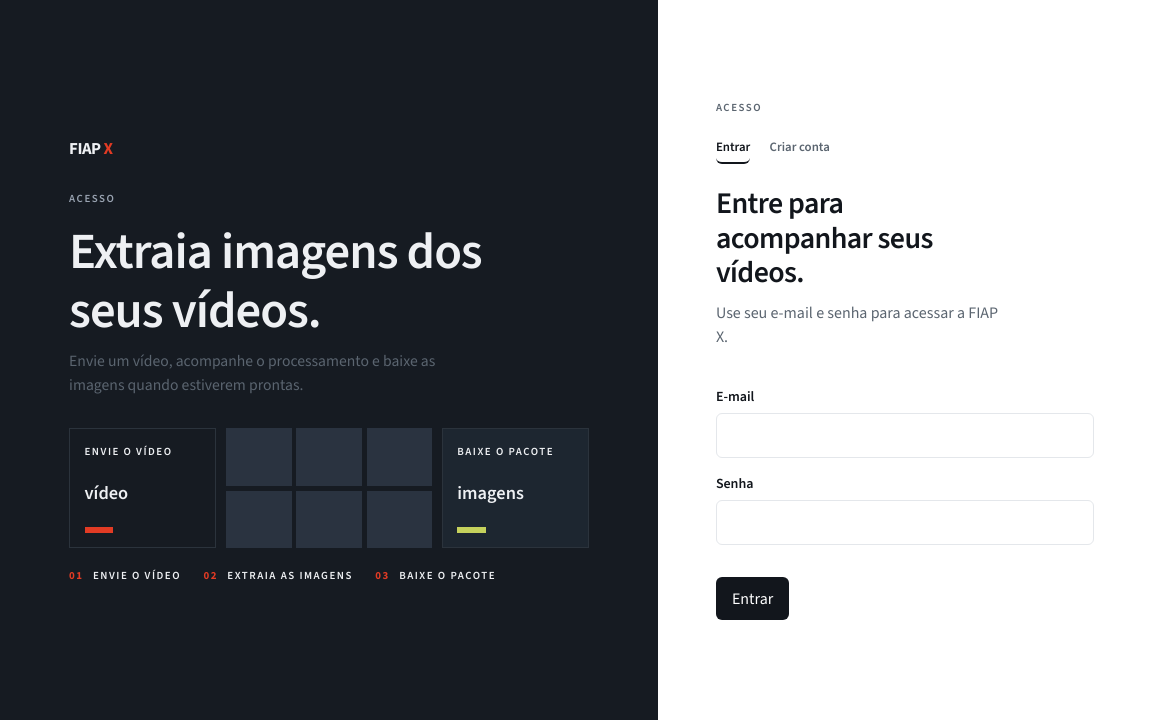
access › returns to login after a valid registration
Click the tab "Criar conta" at (800, 147), box top-left (770, 131), bottom-right (830, 164)
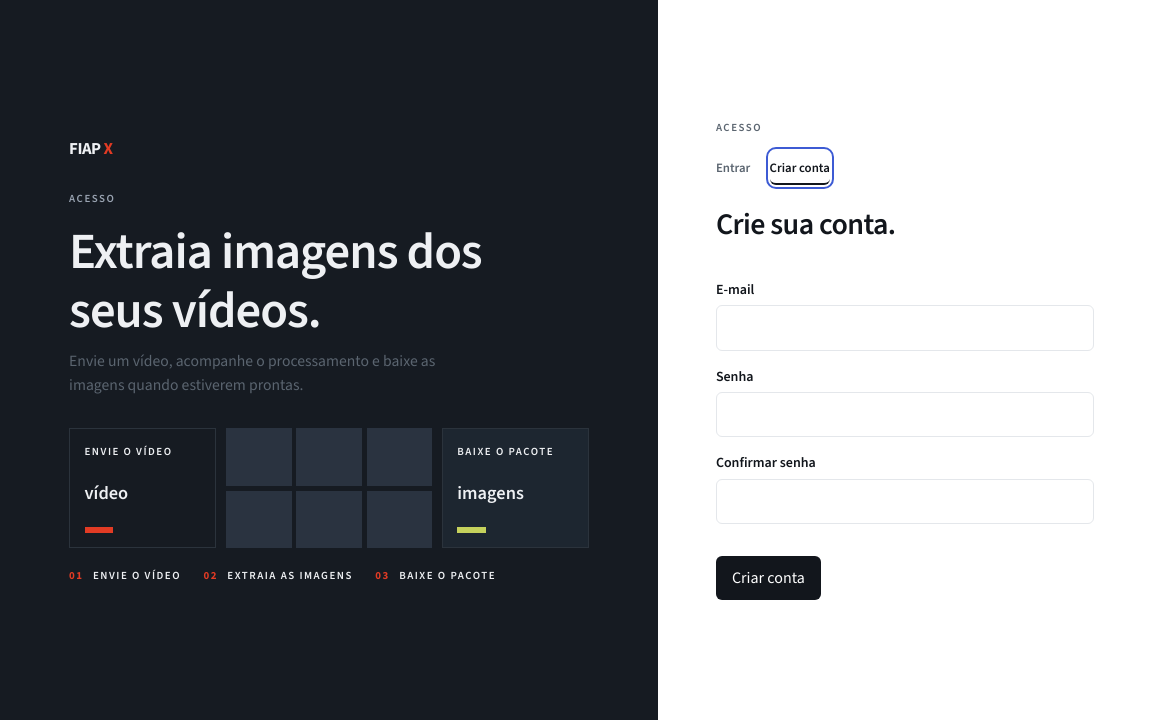
Type "nova@fiapx.local" into the field labelled "E-mail" at (905, 328), box top-left (716, 305), bottom-right (1094, 351)
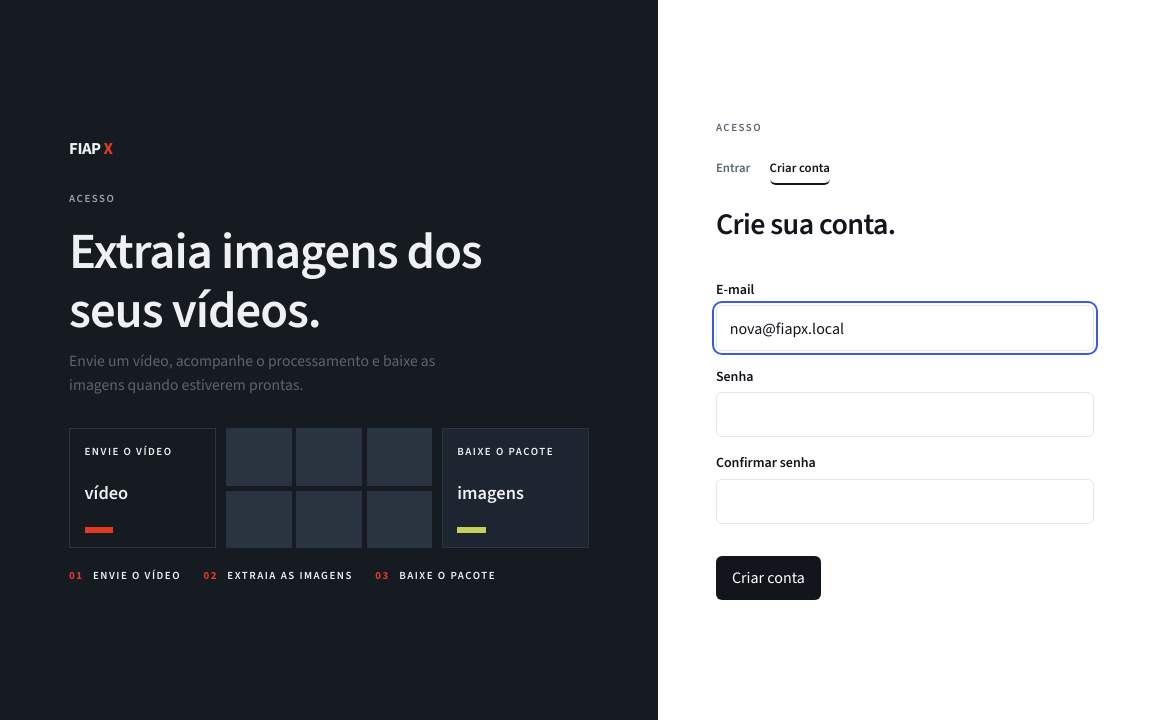
Type "SenhaSegura123" into the password field labelled "Senha" at (905, 415), box top-left (716, 392), bottom-right (1094, 438)
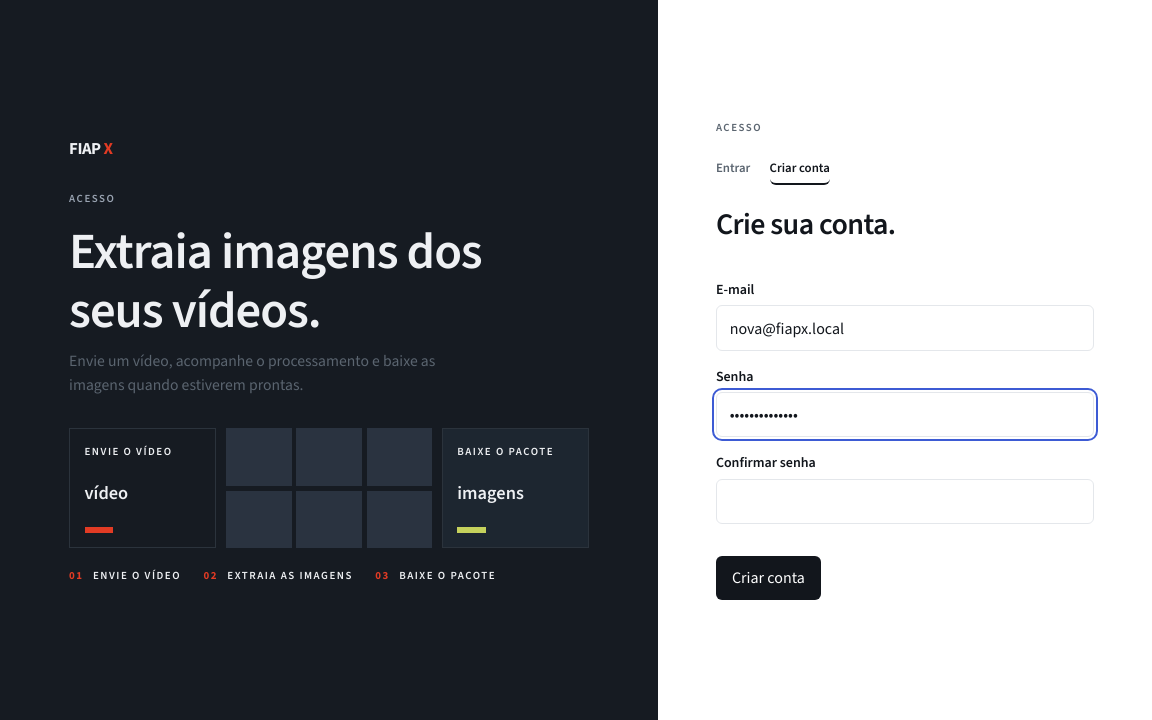
Type "SenhaSegura123" into the password field labelled "Confirmar senha" at (905, 502), box top-left (716, 479), bottom-right (1094, 524)
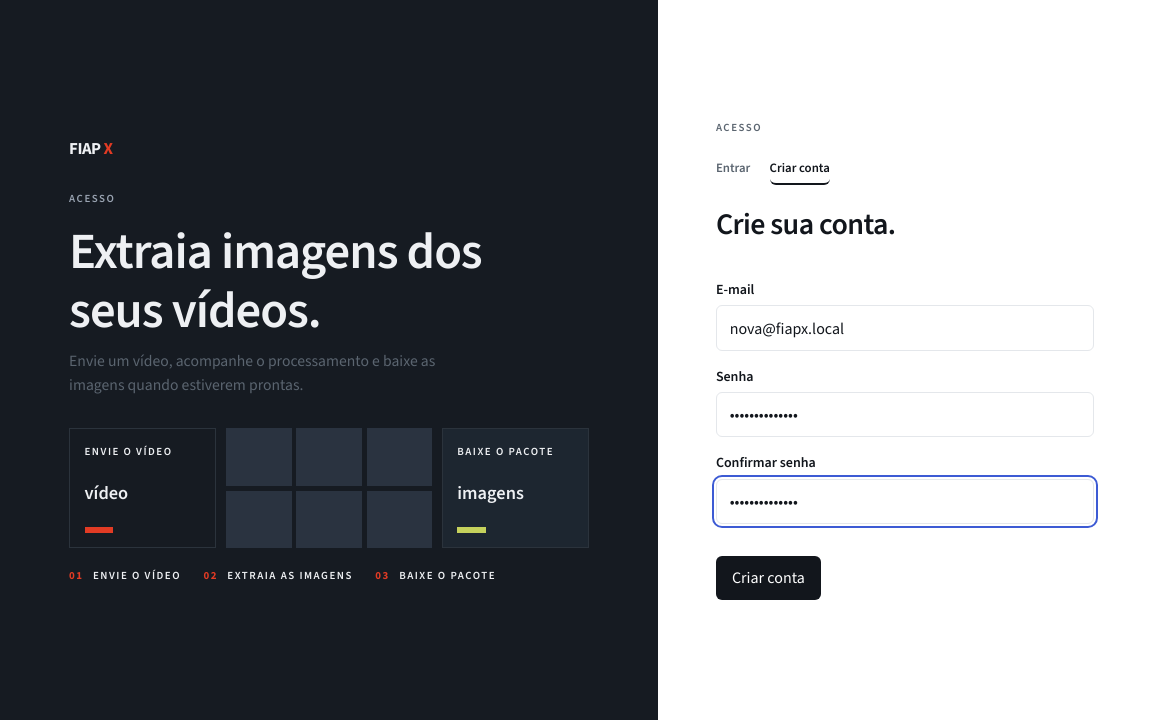
Click the button "Criar conta" at (768, 578), box top-left (716, 556), bottom-right (821, 600)
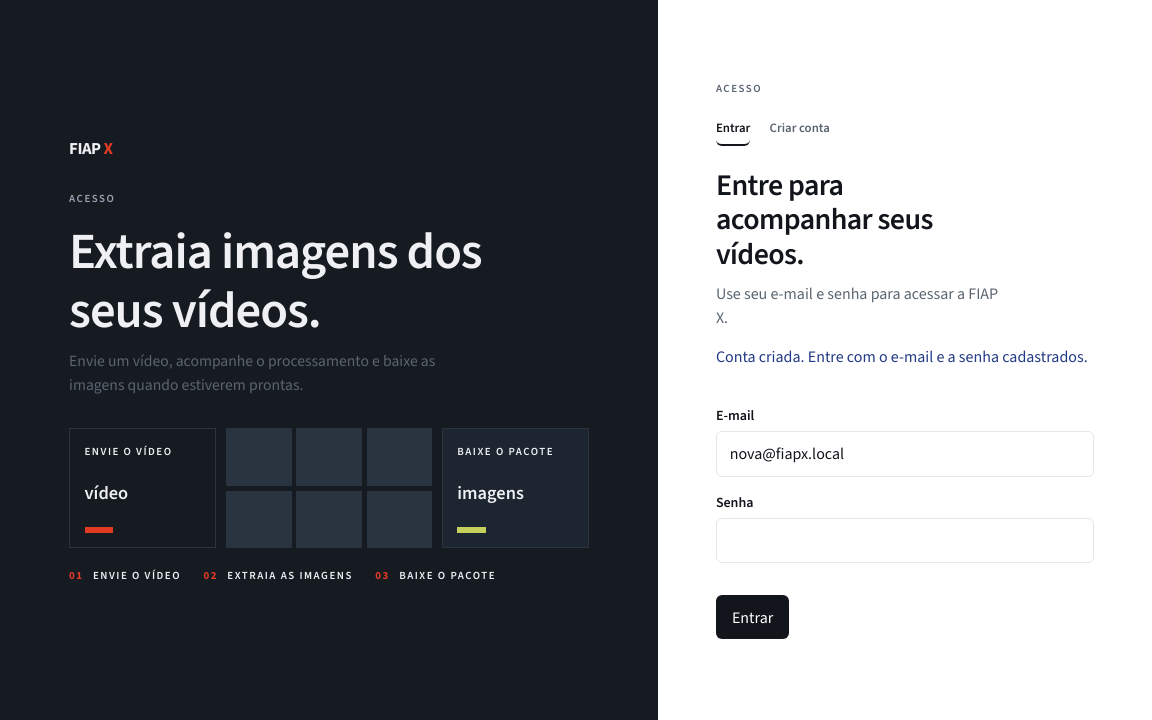
Expected: the message reads "Conta criada. Entre com o e-mail e a senha cadastrados.", top-left (716, 346), bottom-right (1088, 368)
Expected: the heading "Entre para acompanhar seus vídeos." is shown, top-left (716, 168), bottom-right (962, 271)
